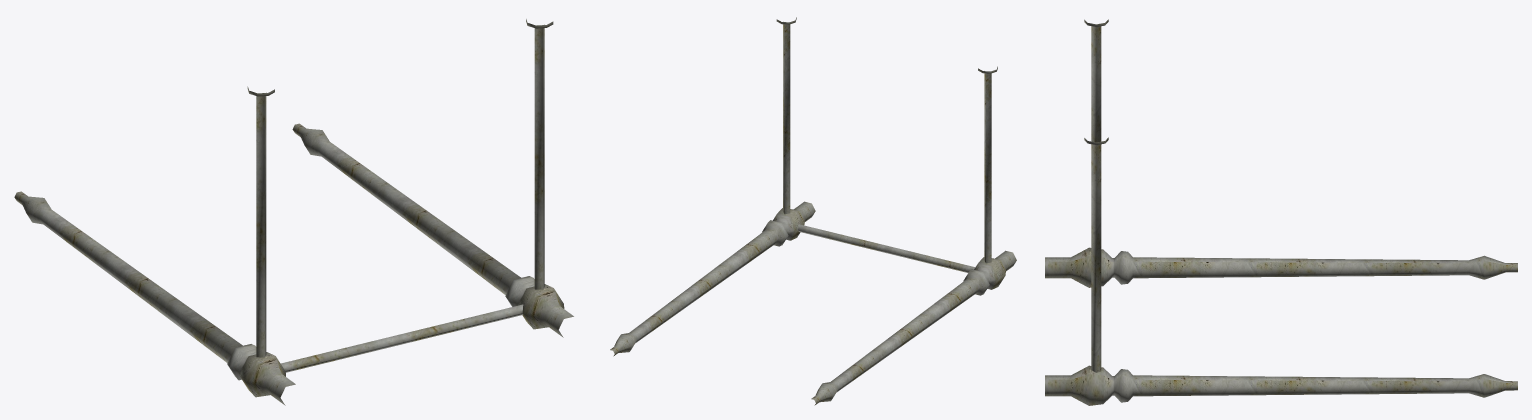
File: furniture_french_sinkstand.glb
The picture shows the model from 3 angles, left to right: view 1: azimuth 30°, elevation 25°; view 2: azimuth 150°, elevation 25°; view 3: azimuth 270°, elevation 25°; orthographic projection. The views are drawn at different scales.
Bounding box in the file's own units: 23.77 × 21.7 × 35.16.
1 material, 1 textured.
